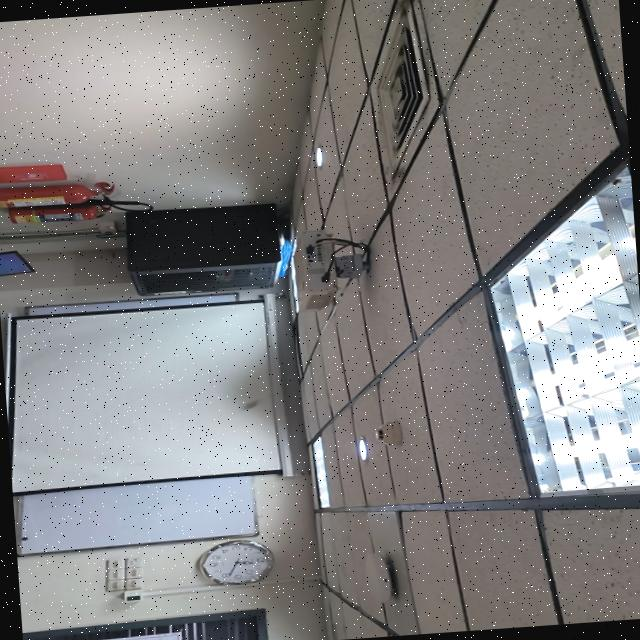Fire Extinguisher: (8, 206, 109, 224)
Light: (490, 176, 640, 497), (309, 438, 329, 507), (356, 438, 366, 461), (313, 147, 323, 167)
Monitor: (0, 251, 34, 276)
Projector: (292, 229, 337, 311), (0, 182, 113, 208)
